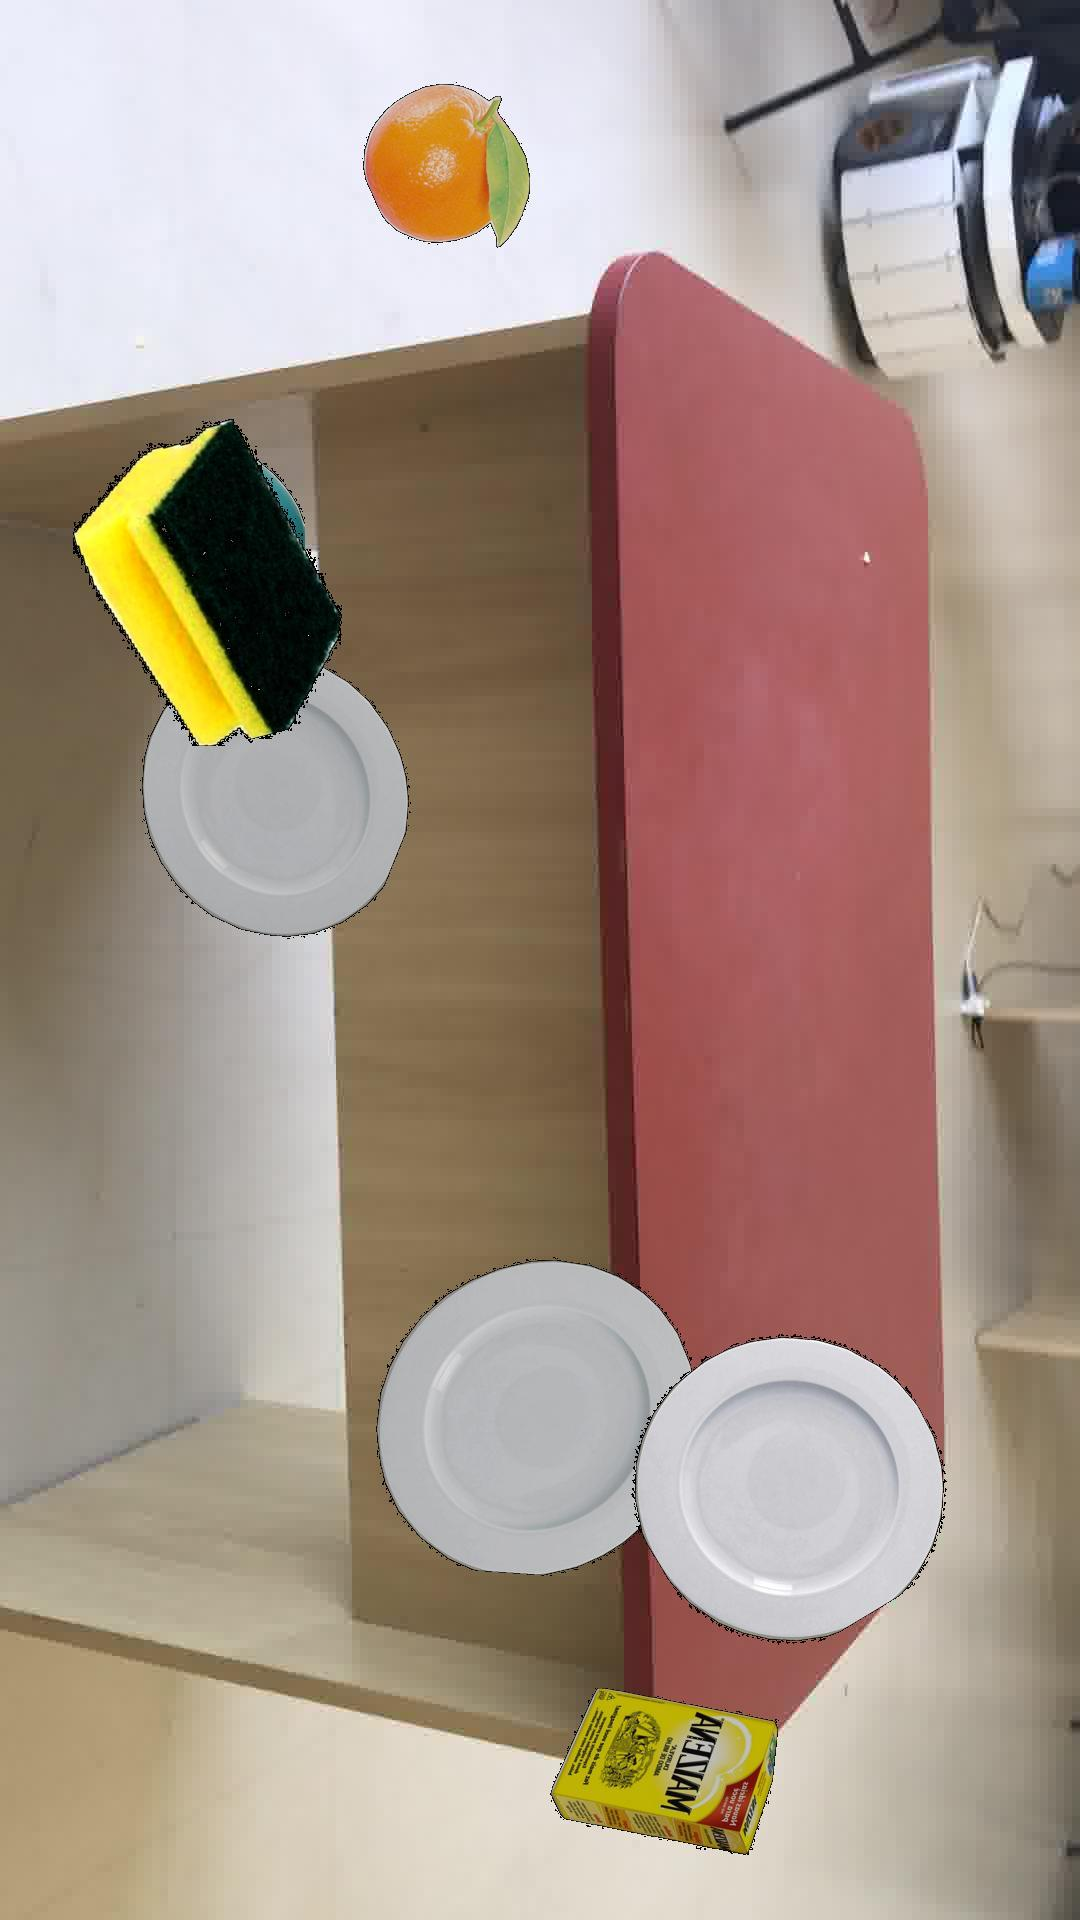bowl: (261, 463, 303, 547)
orange: (361, 83, 529, 247)
plate: (375, 1258, 691, 1575), (629, 1332, 945, 1643), (141, 666, 409, 935)
sponge: (71, 418, 340, 745)
